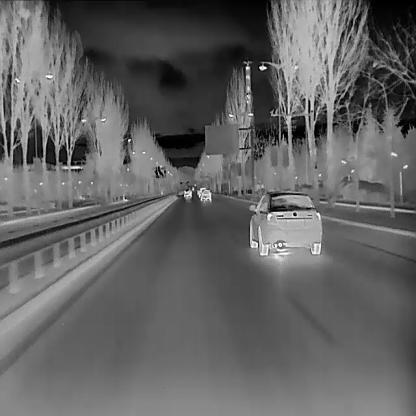car: (248, 189, 322, 255), (199, 188, 212, 200), (182, 188, 192, 197), (199, 186, 206, 198), (191, 185, 194, 190), (193, 182, 196, 185)
